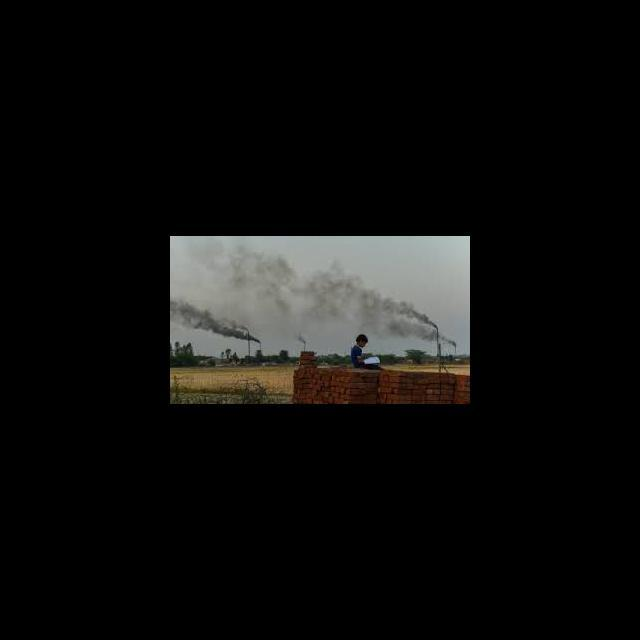Smoke: (198, 244, 290, 293), (338, 300, 435, 340), (170, 301, 245, 339)
